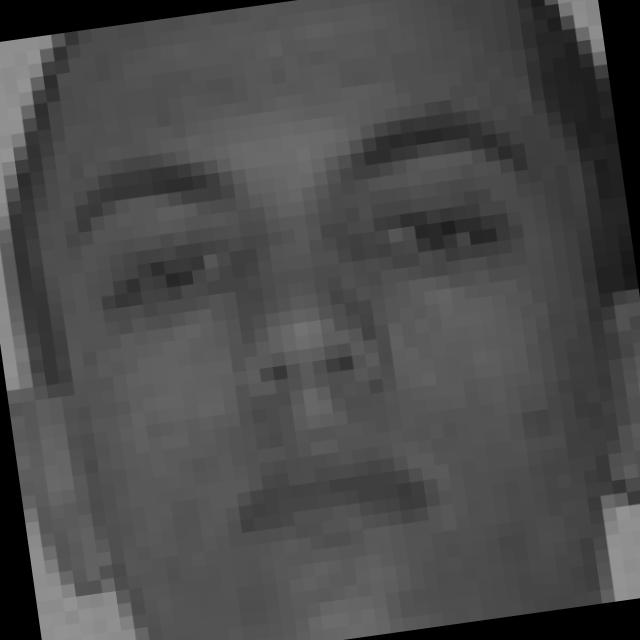neutral: (42, 85, 592, 588)
